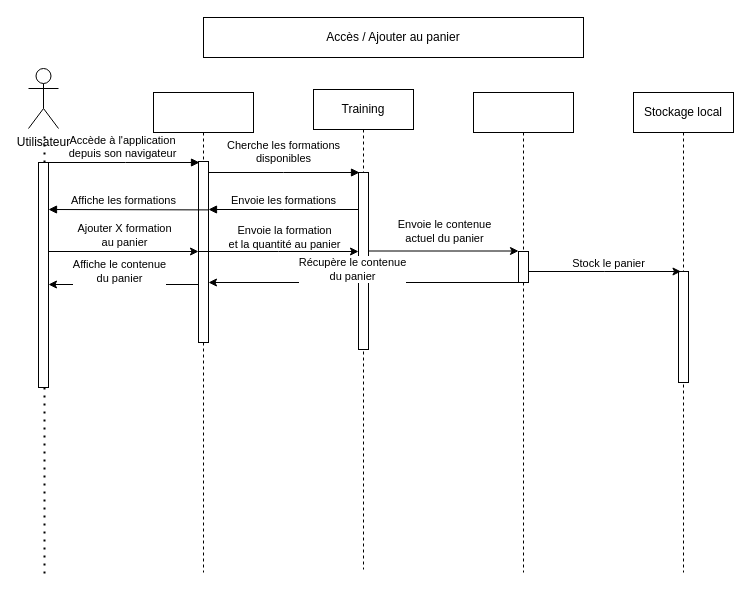
Some shapes in this 751 by 593 pixel diagram are drawn without their labels. Each missing label, with the box of its shape:
Application Web: (152, 92, 254, 572)
Cart: (472, 92, 574, 572)
